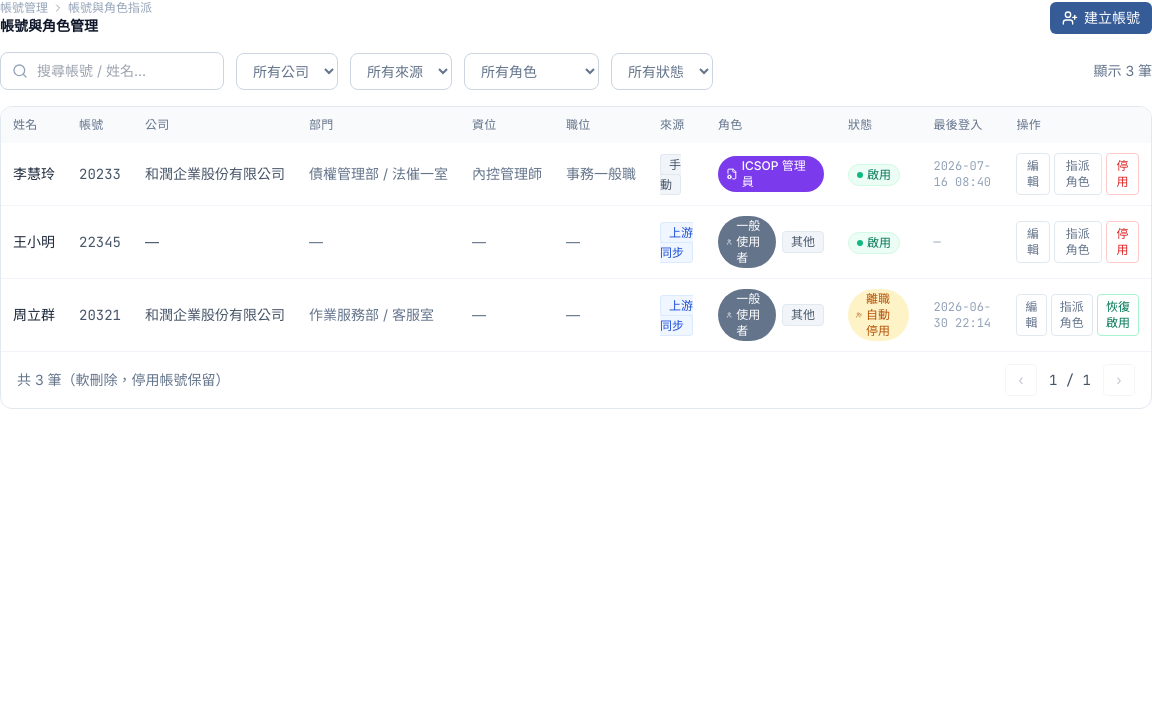
Test: AccountManagementPage — F003 帳號與角色管理 › 指派角色 modal — F041 子分類選擇器（AC-32／F003 AC-U1／AC-U2） › 選「一般使用者」→ 呈現子分類選擇器；切換為其他角色 → 選擇器消失；切回 → 重新出現
Expected: the text "王小明" is shown, [13,232,55,252]
// 王小明（a2）現況角色即為一般使用者 → 開啟時應已呈現子分類選擇器
Click the button "指派角色" in the row of "王小明": (1078, 242) [1054,221,1102,263]
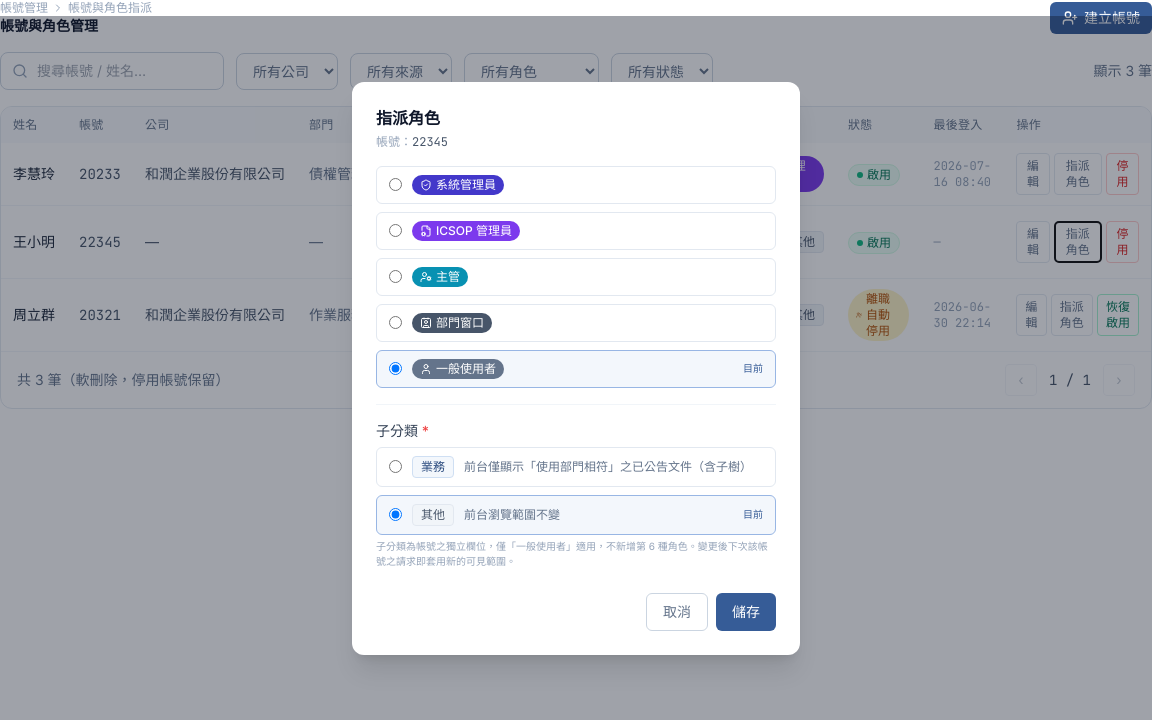
Now the radio button labelled "業務 前台僅顯示「使用部門相符」之已公告文件（含子樹）" is shown, box [389,460,402,473]
Now the radio button labelled "其他 前台瀏覽範圍不變 目前" is shown, box [389,508,402,521]
Click the radio button labelled "主管": (396, 276) [389,270,402,283]
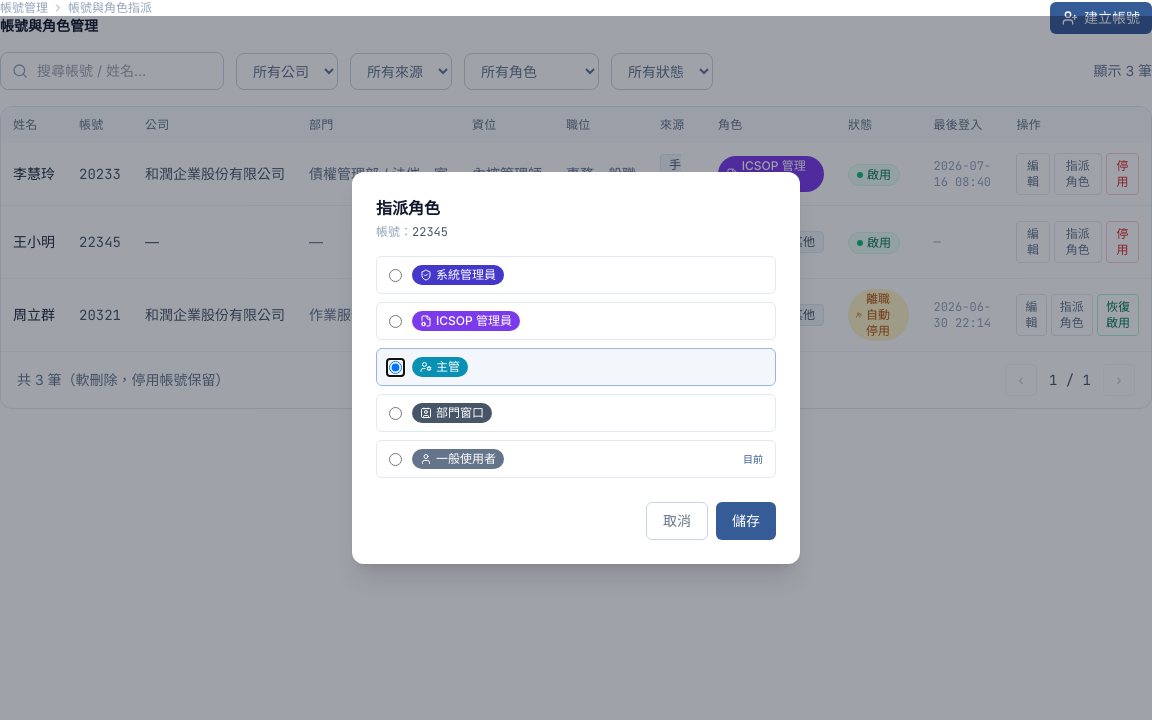
Now the text "業務" is gone
Click the radio button labelled "一般使用者 目前": (396, 459) [389,452,402,466]
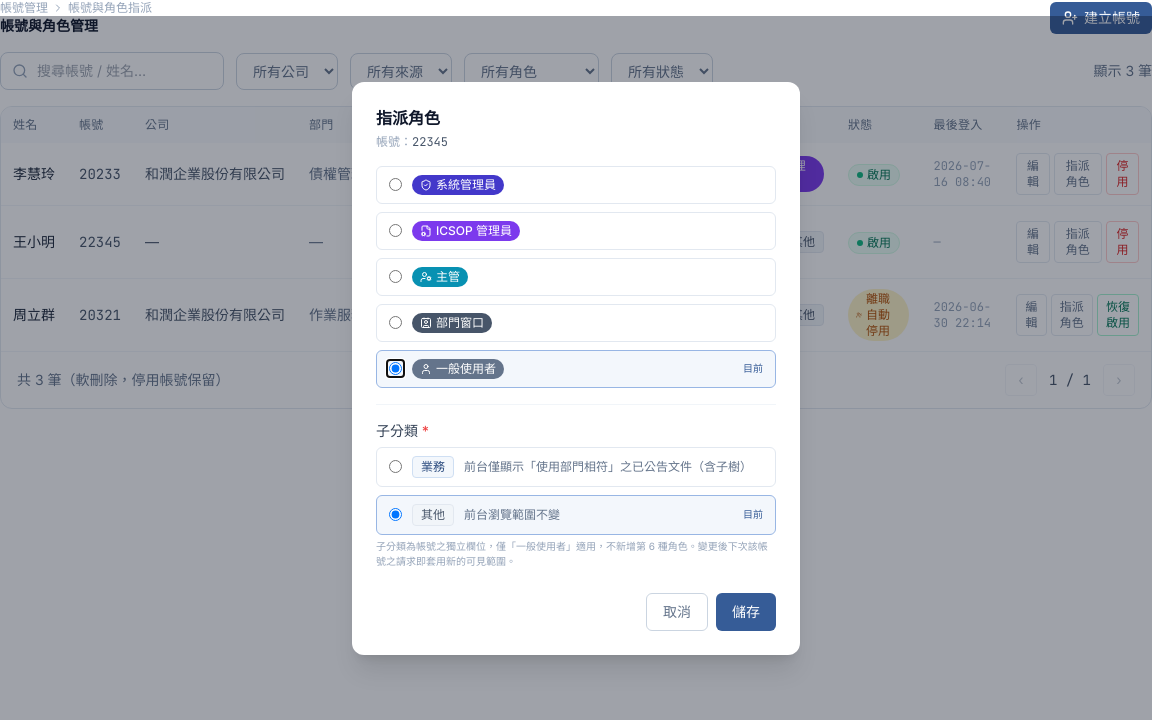
Now the radio button labelled "業務 前台僅顯示「使用部門相符」之已公告文件（含子樹）" is shown, box [389,460,402,473]
